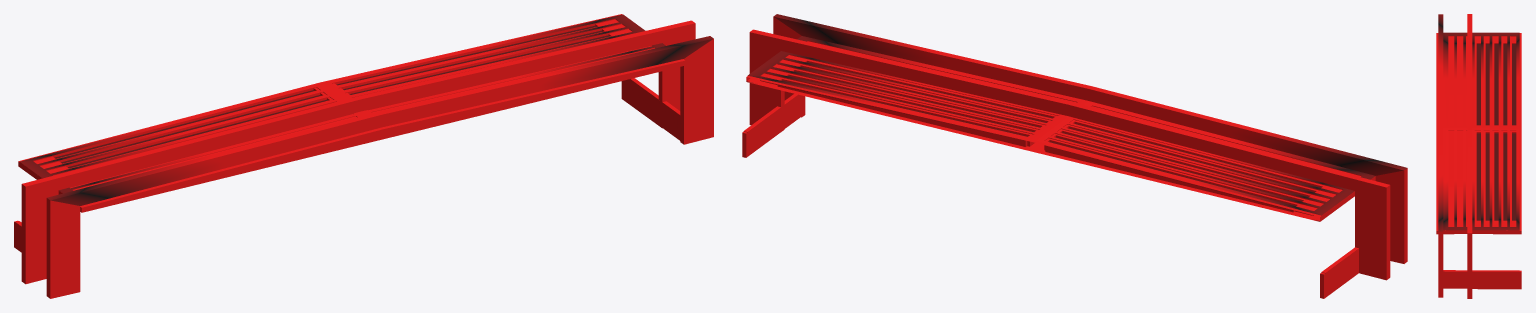
The model's file is SM_TrainShed_v01.FBX.
The picture shows the model from 3 angles, left to right: view 1: azimuth 30°, elevation 25°; view 2: azimuth 150°, elevation 25°; view 3: azimuth 270°, elevation 25°; orthographic projection. The views are drawn at different scales.
Parts seen in each view (by area): view 1: SM_TrainShed_Midl_, SM_TrainShed_StEnd_; view 2: SM_TrainShed_StEnd_, SM_TrainShed_Midl_; view 3: SM_TrainShed_Midl_, SM_TrainShed_StEnd_.
Boxes of the visible parts, x1,y1,x2,y2 form: SM_TrainShed_Midl_: (15, 14, 713, 298); SM_TrainShed_StEnd_: (14, 14, 695, 284); SM_TrainShed_StEnd_: (742, 29, 1390, 298); SM_TrainShed_Midl_: (743, 14, 1407, 273); SM_TrainShed_Midl_: (1438, 14, 1519, 297); SM_TrainShed_StEnd_: (1436, 14, 1521, 298).
Size of the model in its own units: 56.75 by 8.4 by 9.33.
